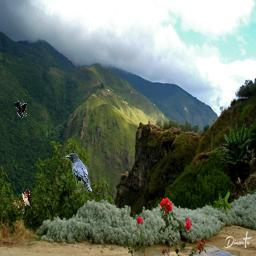Crow: (65, 153, 92, 193), (15, 101, 27, 118)
Swallow: (22, 188, 32, 206)
